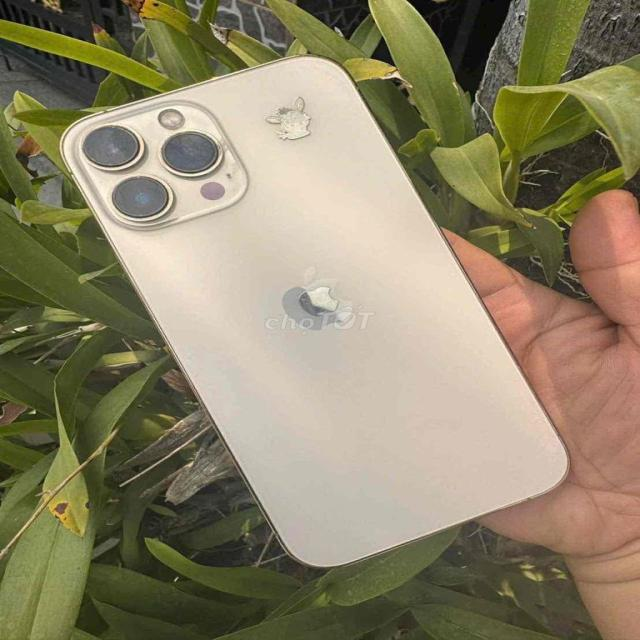gen_12_13: (48, 52, 576, 574)
